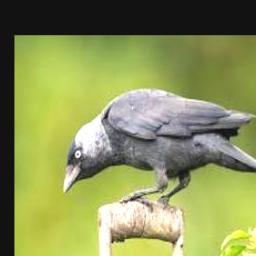Crow: (64, 88, 256, 211)
